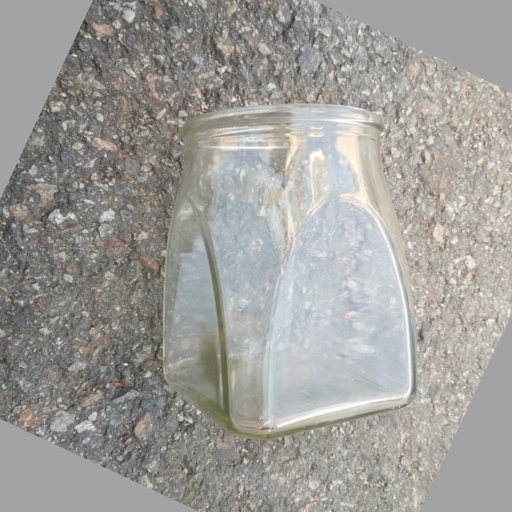Glass_5: (145, 109, 424, 437)
